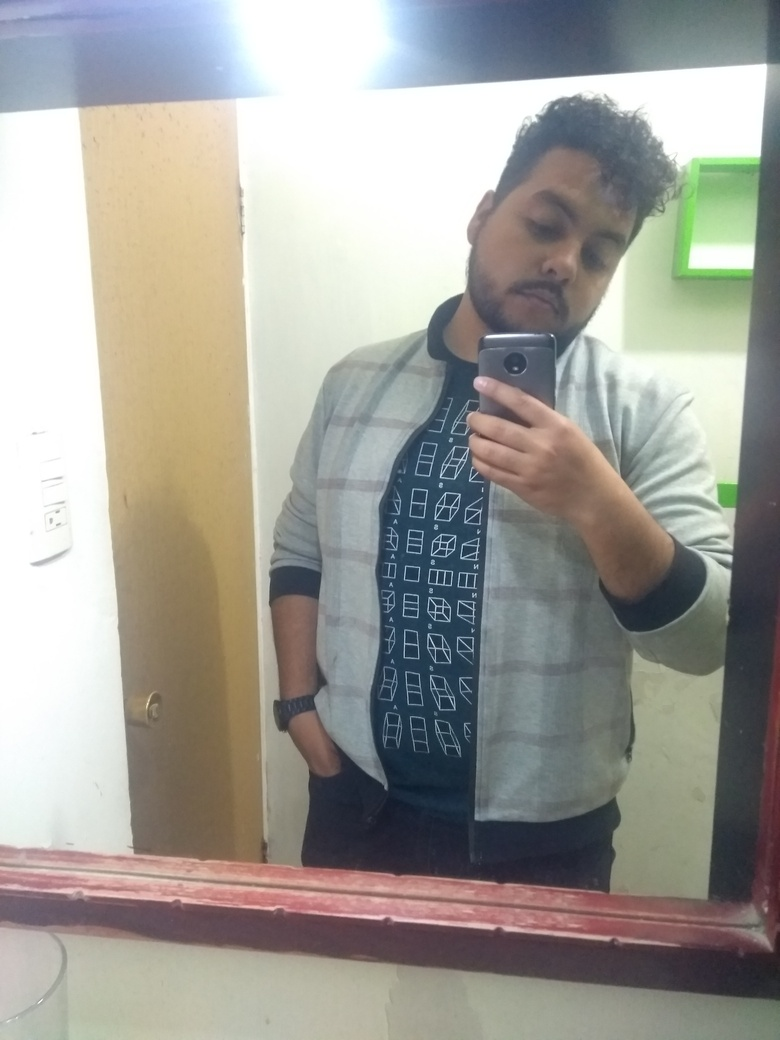Yoshi: (427, 60, 693, 384)
